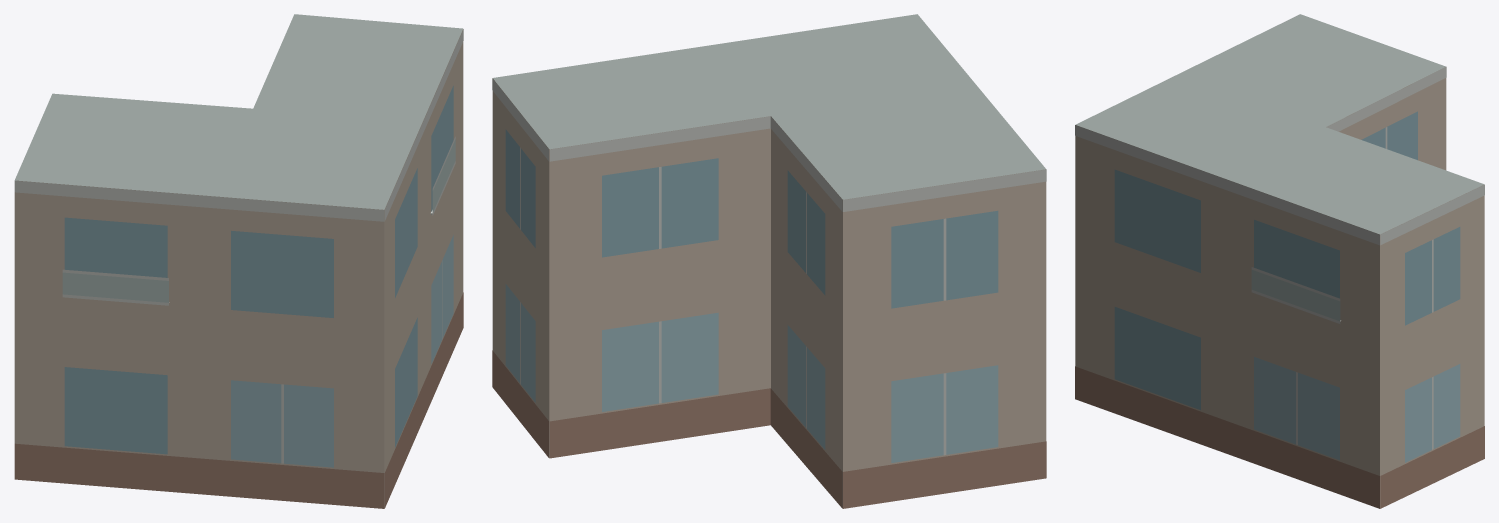
The model's file is survey-upis-32900171.glb.
3 views of the same model, side by side, from view 1: azimuth 30°, elevation 25°; view 2: azimuth 150°, elevation 25°; view 3: azimuth 270°, elevation 25° (orthographic). The views are drawn at different scales.
Visible parts, largest first — view 1: survey-upis-32900171.tmp; view 2: survey-upis-32900171.tmp; view 3: survey-upis-32900171.tmp.
Boxes of the visible parts, x1,y1,x2,y2 form: survey-upis-32900171.tmp: [14, 14, 463, 508]; survey-upis-32900171.tmp: [492, 14, 1046, 508]; survey-upis-32900171.tmp: [1075, 14, 1484, 508].
Bounding box in the file's own units: 10.52 × 6.1 × 8.26.
